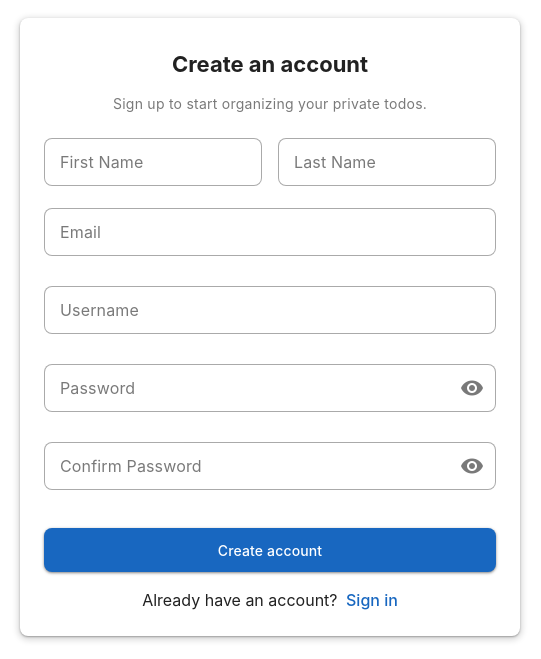
Test: Feature 1 — User Authentication & Session Management › US-1.1 — Registration › User submits registration with mismatched passwords
Type "Jane" into the field labelled "First Name".
click(153, 162); type("Jane")  # box [44,138,262,186]
Type "Doe" into the field labelled "Last Name".
click(387, 162); type("Doe")  # box [278,138,496,186]
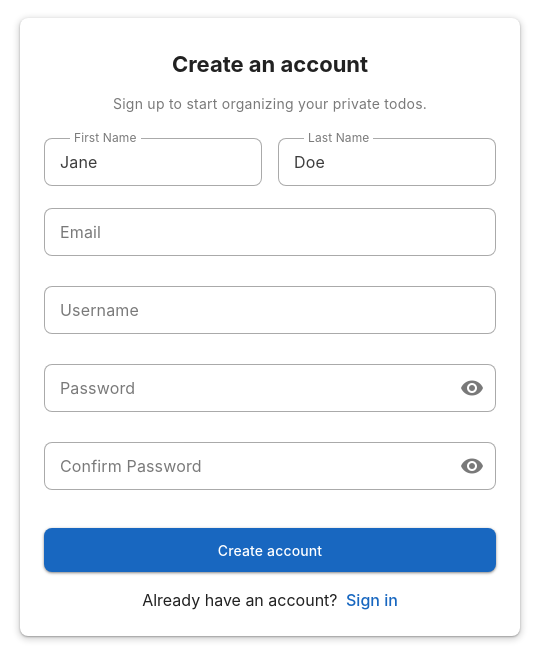
Type "jane@example.com" into the field labelled "Email".
click(270, 232); type("jane@example.com")  # box [44,208,496,256]
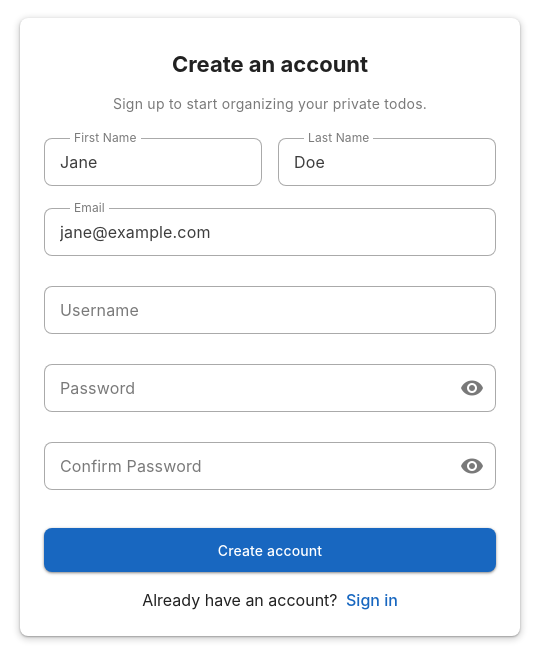
Type "jdoe" into the field labelled "Username".
click(270, 310); type("jdoe")  # box [44,286,496,334]
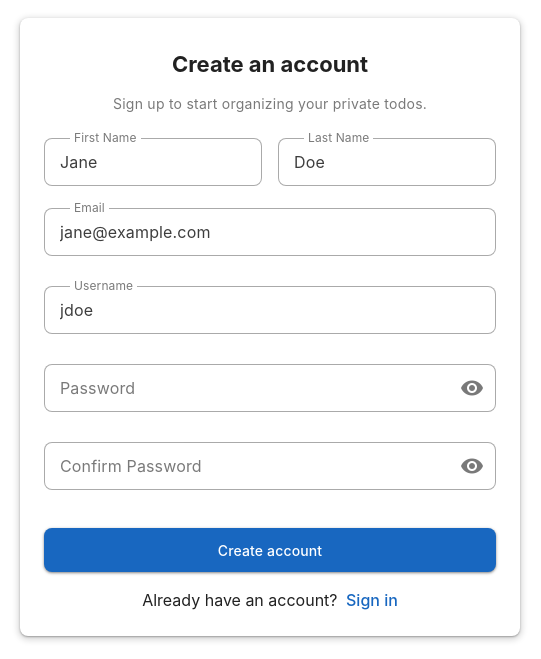
Type "password123" into the password field labelled "Password".
click(252, 388); type("password123")  # box [44,364,460,412]
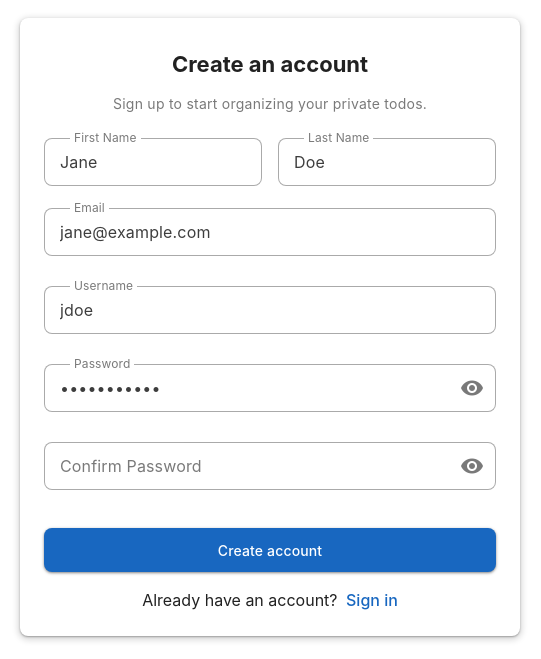
Type "differentpass" into the password field labelled "Confirm Password".
click(252, 466); type("differentpass")  # box [44,442,460,490]
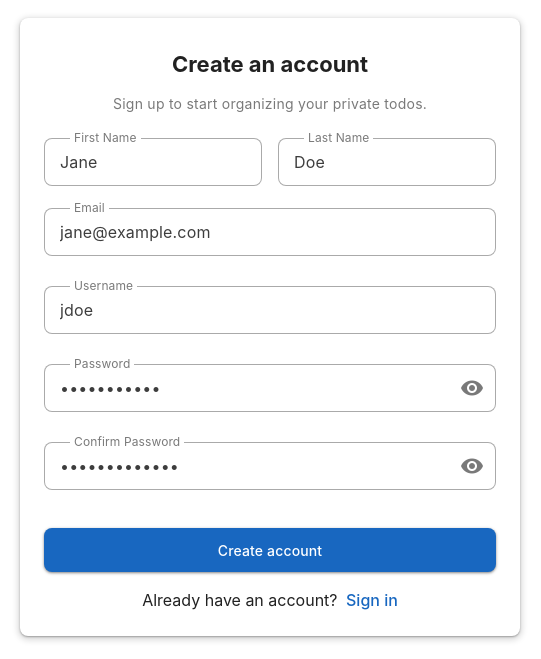
Submit the form
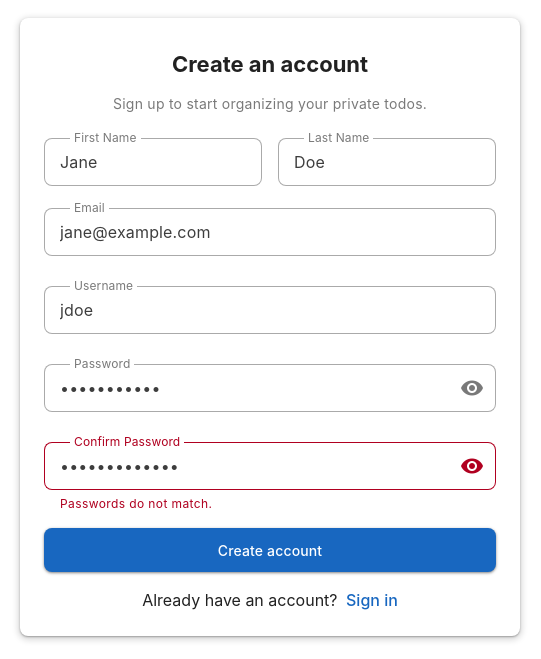
Result: the text "Passwords do not match." is shown at [60,496,212,511]
